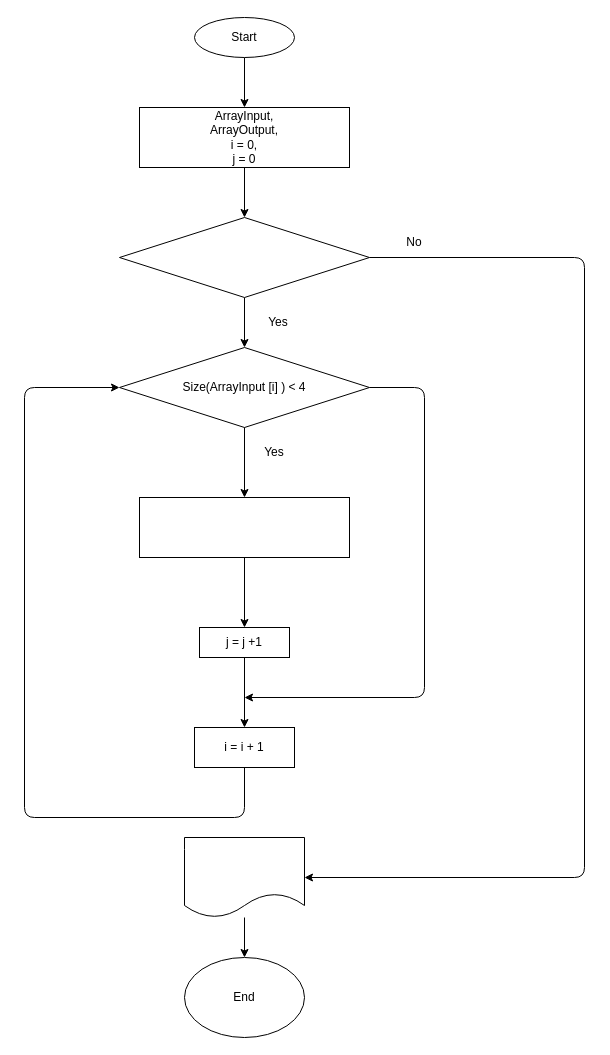
The diagram is 610 pixels wide and 1055 high, and some of its shapes have lost their labels. Each missing label, with the centre of its shape:
"ArrayOutput" belongs at point 244,877.
"ArrayOutput [j] = ArrayInput [i]" belongs at point 244,527.
"i < Length(ArrayInput)" belongs at point 244,257.
